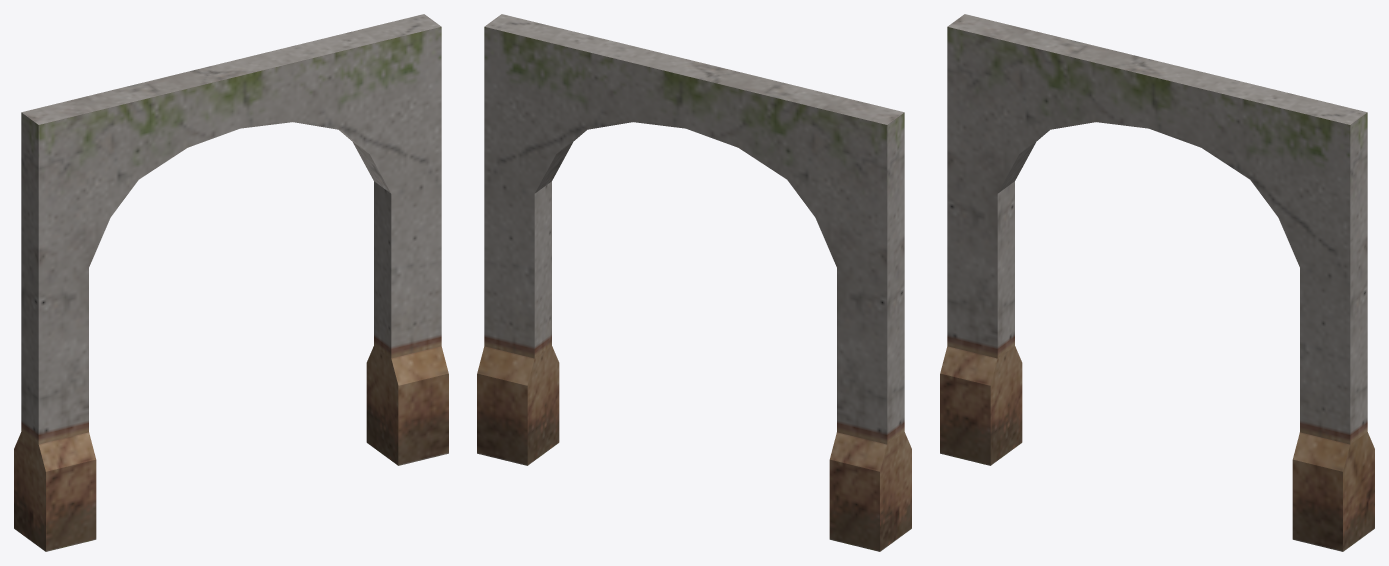
The model's file is MESH_ESGOTOINF_WALL3.fbx.
The picture shows the model from 3 angles, left to right: view 1: azimuth 30°, elevation 25°; view 2: azimuth 150°, elevation 25°; view 3: azimuth 330°, elevation 25°; orthographic projection.
Visible parts, largest first — view 1: MESH_ESGOTOINF_WALL3; view 2: MESH_ESGOTOINF_WALL3; view 3: MESH_ESGOTOINF_WALL3.
Boxes of the visible parts, left/top/right/bottom form: MESH_ESGOTOINF_WALL3: left=14, top=14, right=448, bottom=551; MESH_ESGOTOINF_WALL3: left=477, top=14, right=911, bottom=551; MESH_ESGOTOINF_WALL3: left=940, top=14, right=1374, bottom=551.
Bounding box in the file's own units: 4 × 4 × 0.5456.
